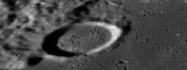crater: (37, 10, 160, 63)
